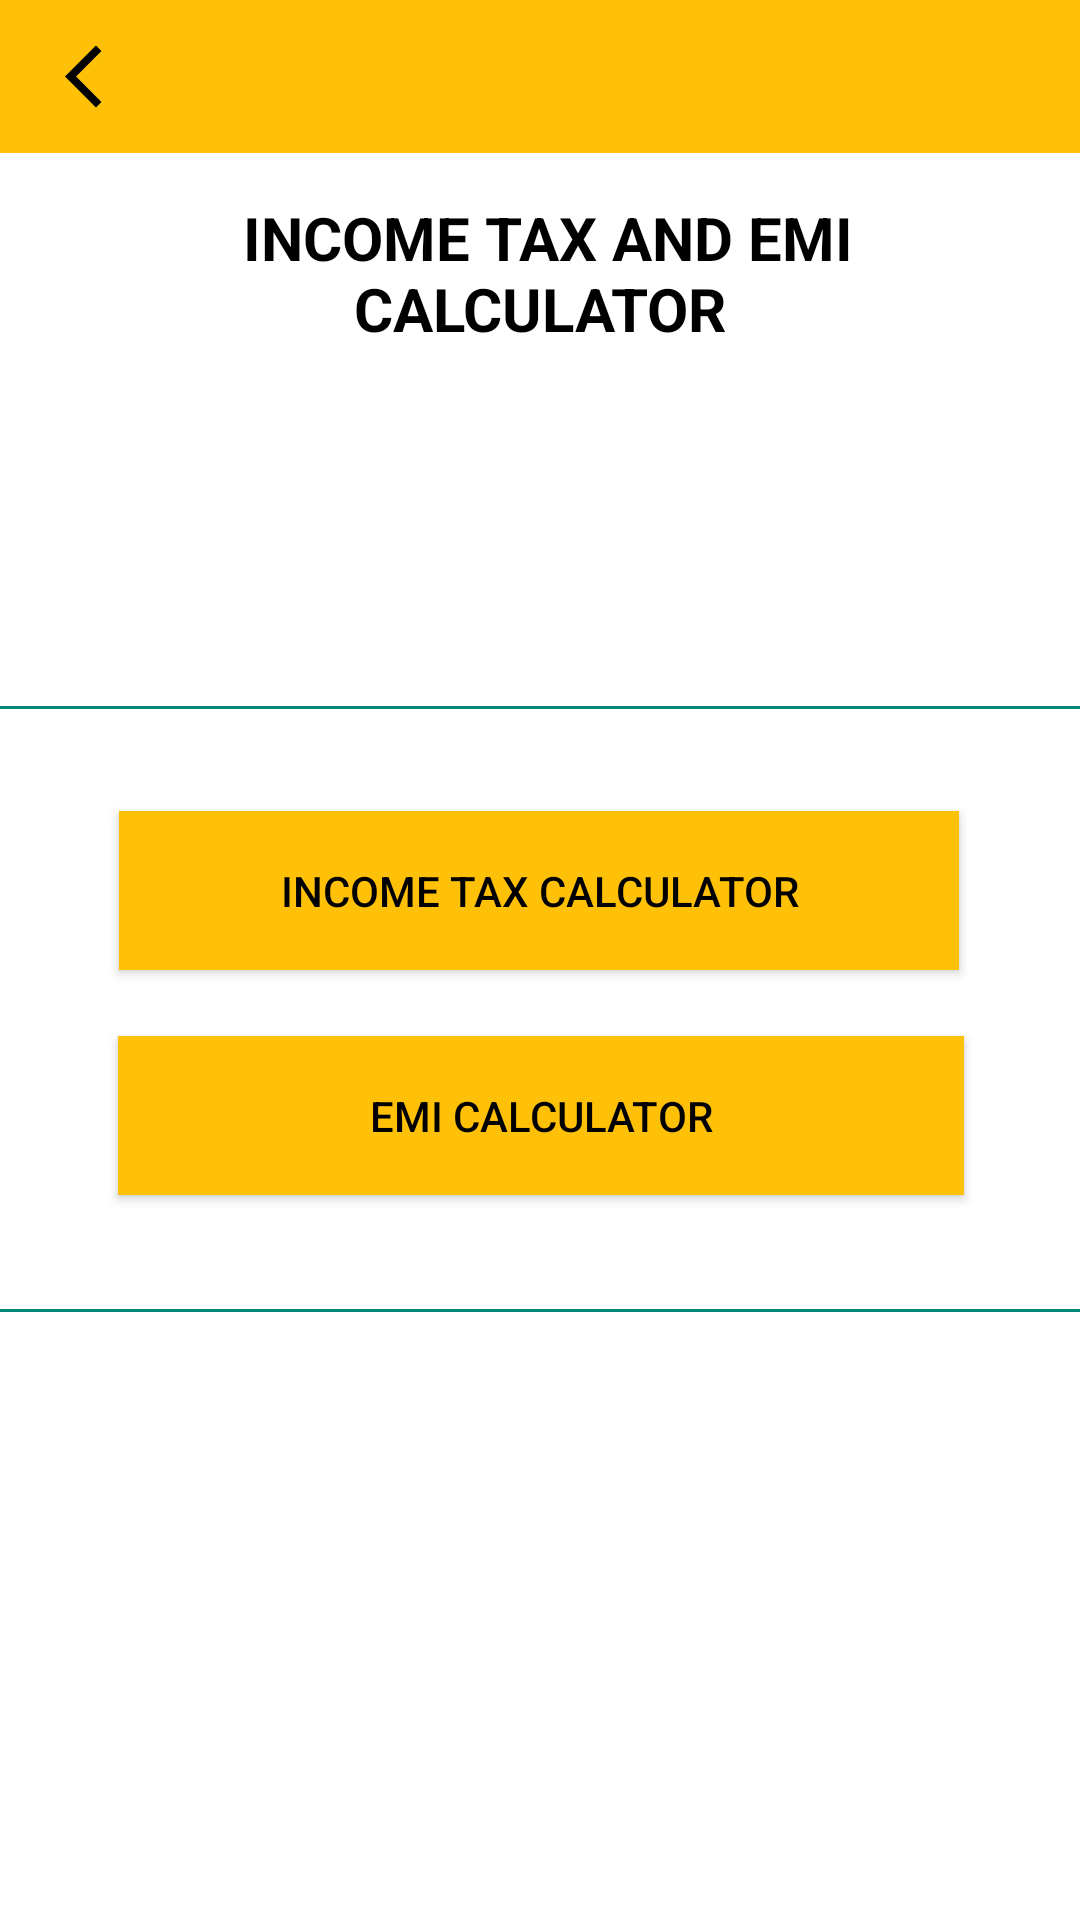

Icon click points for this 1080w x 1920h phone screenshot, format (x=x, y=y):
arrow back: (x=83, y=76)
